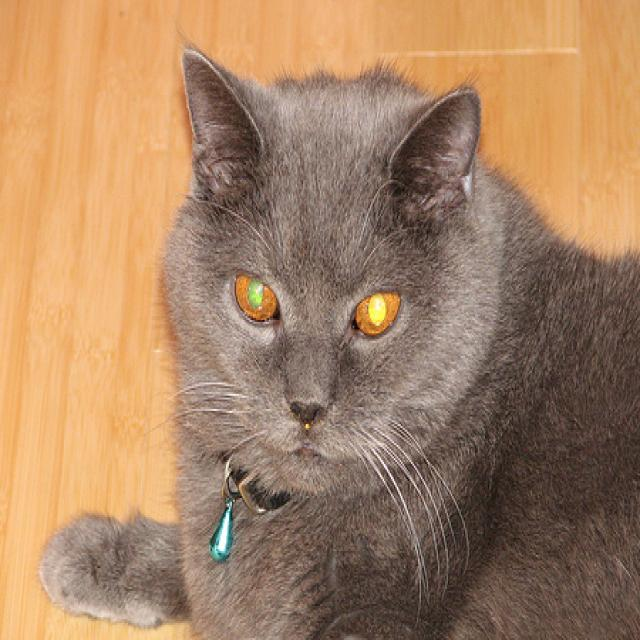British Shorthair: (32, 34, 640, 640)
